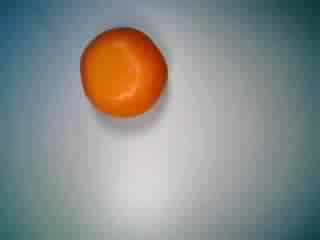orange: (72, 24, 169, 118)
